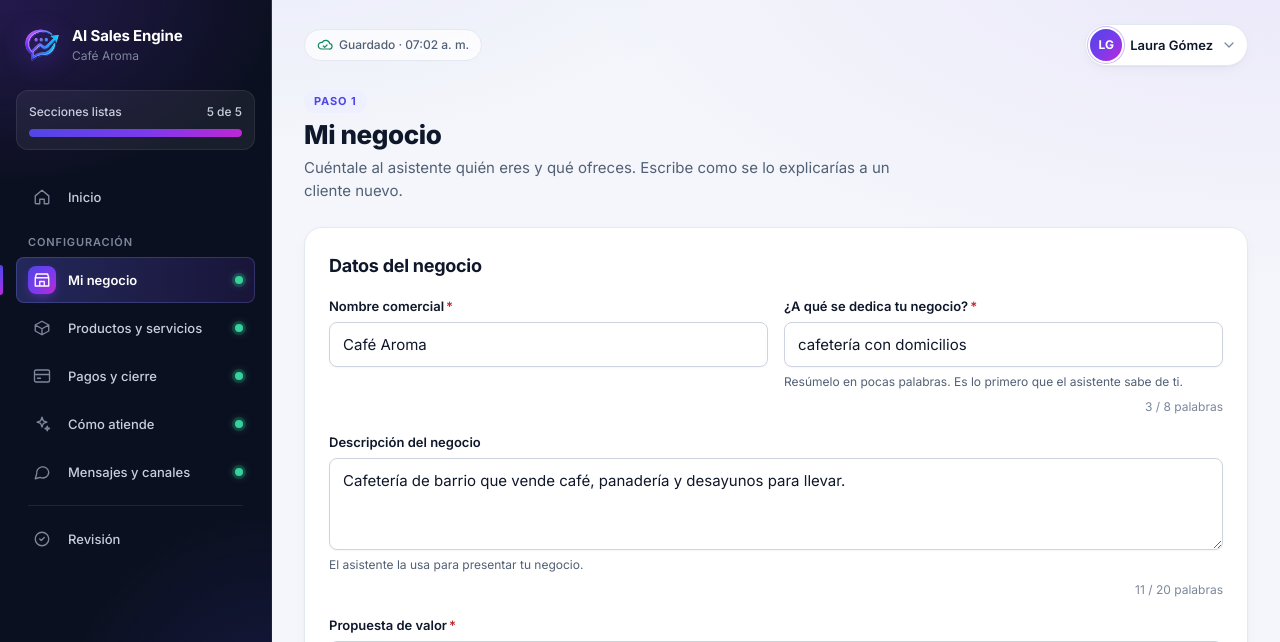
Panel de configuración › valida y actualiza los datos del negocio
Expected: the heading "Mi negocio" is shown, left=304, top=119, right=910, bottom=150
Clear the field labelled "Nombre comercial*" at [548, 344], box left=329, top=322, right=768, bottom=367
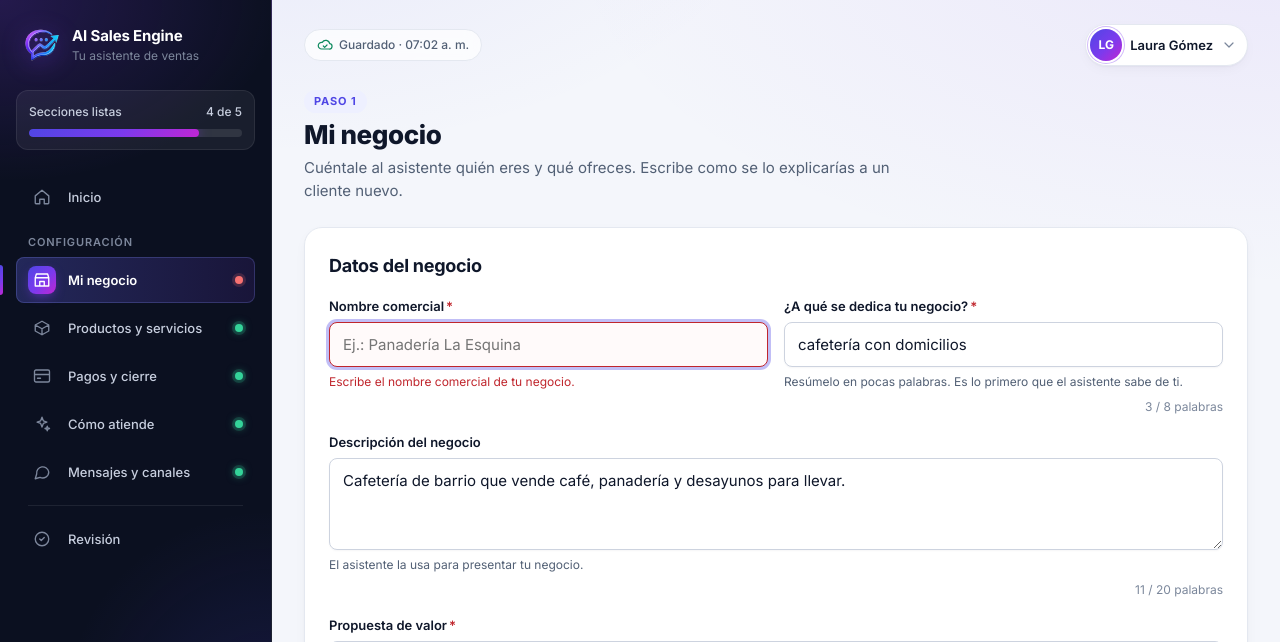
Result: the text "Escribe el nombre comercial de tu negocio." is shown at left=329, top=374, right=575, bottom=389
Type "Panadería Central" into the field labelled "Nombre comercial*" at [548, 344], box left=329, top=322, right=768, bottom=367
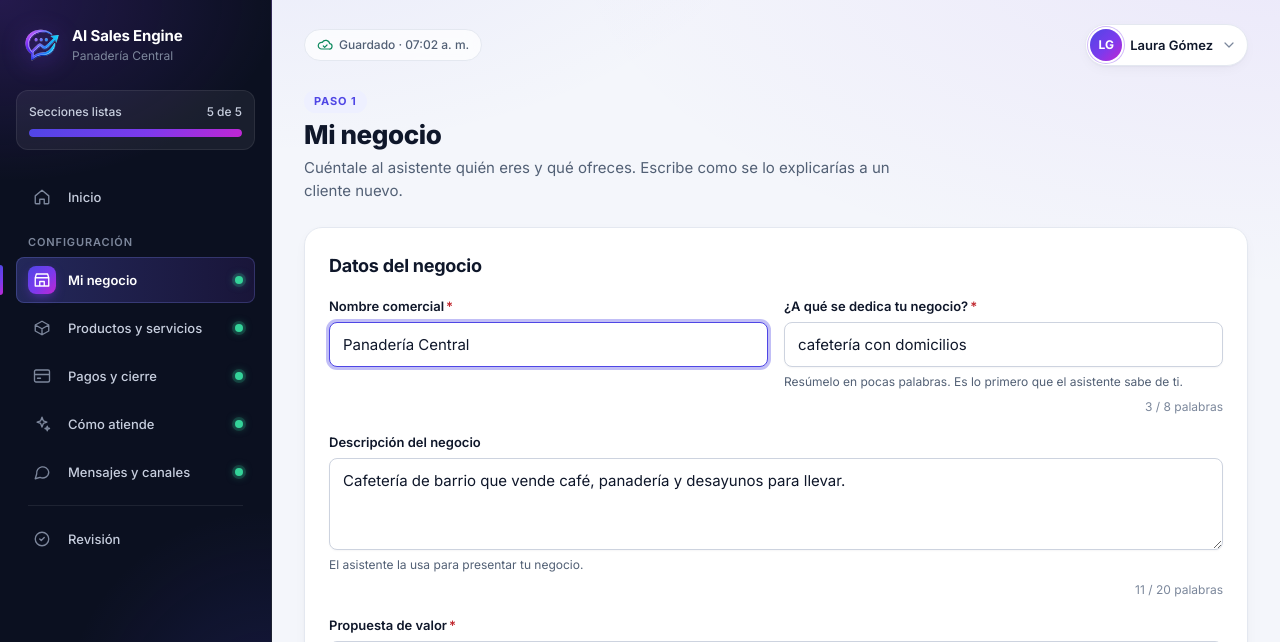
Result: the text "Escribe el nombre comercial de tu negocio." is gone
Result: the text "Panadería Central" is shown at left=72, top=47, right=182, bottom=66
